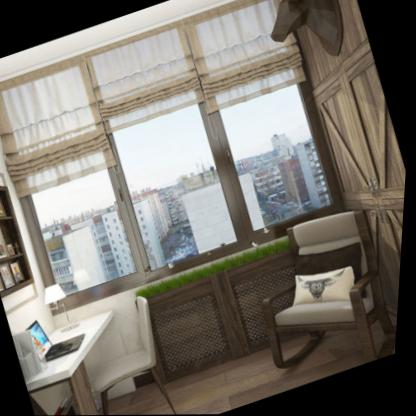Window: (77, 20, 257, 273), (188, 0, 348, 233), (0, 58, 148, 300)
